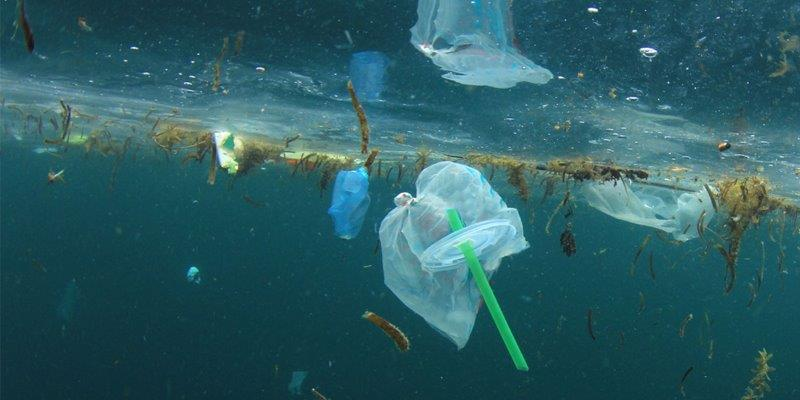plastic: (380, 155, 530, 373), (575, 173, 724, 243), (326, 164, 372, 244)
